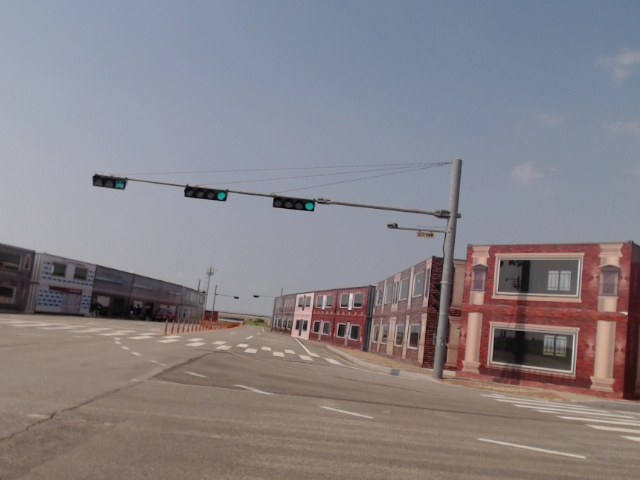straight_green_4: (271, 194, 316, 212), (183, 185, 227, 202)
